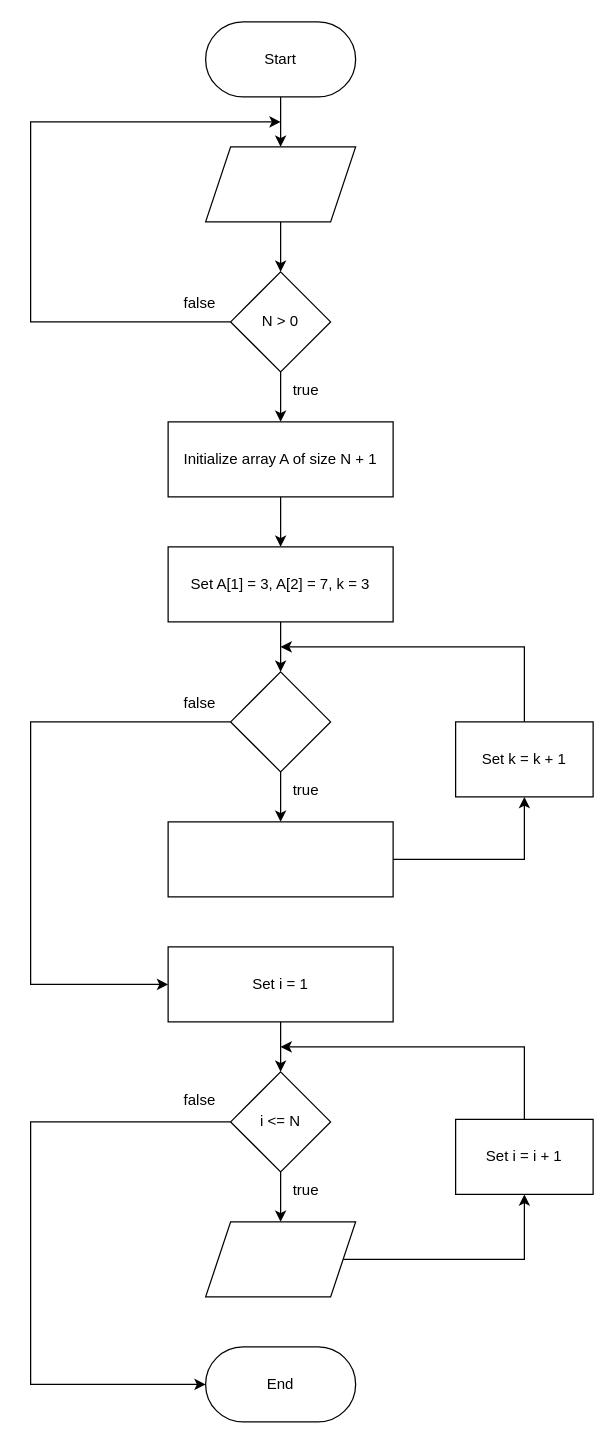
The diagram is 615 pixels wide and 1444 high, and some of its shapes have lost their labels. The box of each missing label's shape, as (x1, y1, x2, y2) in pixels:
A[k] = 2 * A[k-1] + 3 * A[k-2]: (167, 821, 393, 897)
Input N: (204, 146, 356, 222)
k <= N: (229, 671, 331, 772)
Output A[i]: (204, 1221, 356, 1297)
